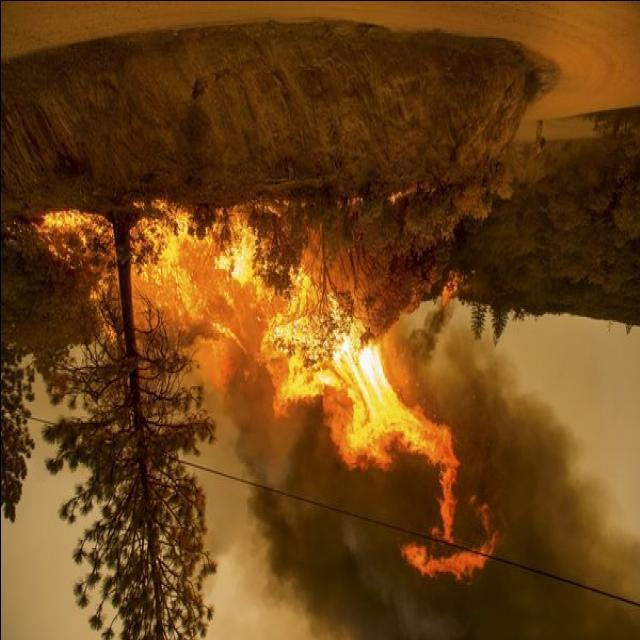Fire: (32, 207, 497, 577)
